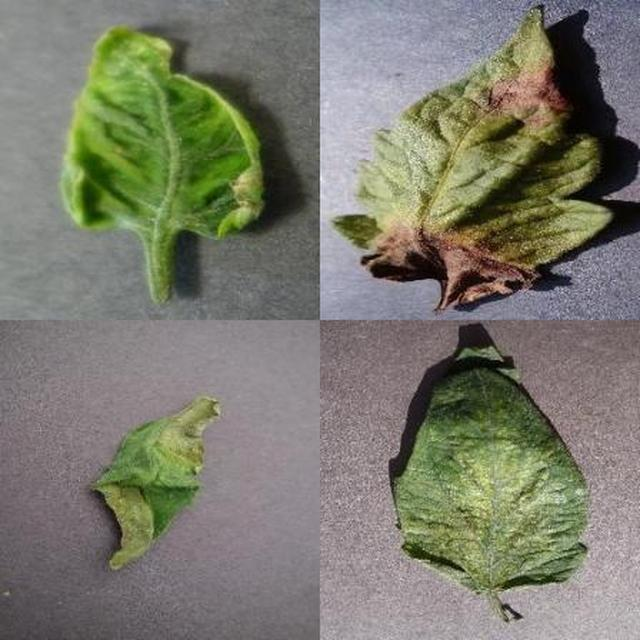Yellow Leaf Curl Virus: (192, 190, 640, 640)
